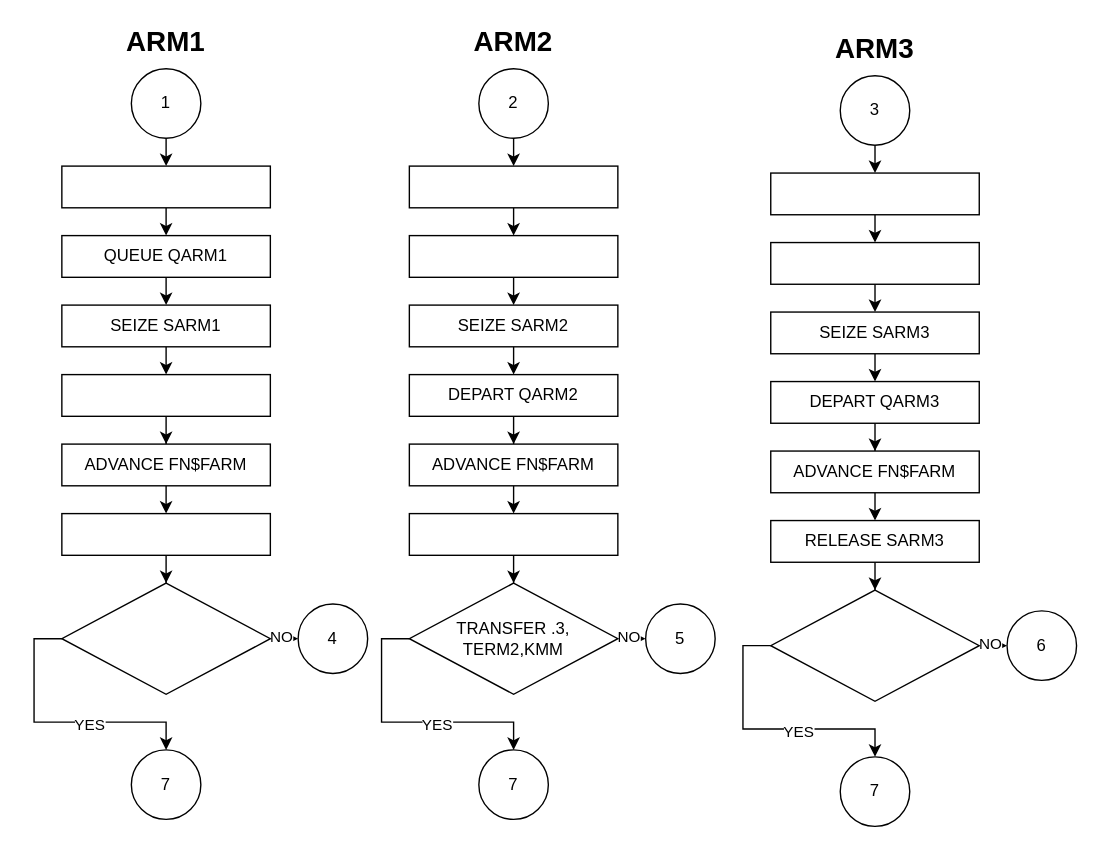
Image size: 1101x851. Some labels were removed from this diagram. The centre of each missing label's shape, as x and y in pixels:
"DEPART QARM1" belongs at (x=165, y=394).
"PRIORITY 10" belongs at (x=874, y=193).
"PRIORITY 15" belongs at (x=513, y=186).
"PRIORITY 20" belongs at (x=165, y=186).
"QUEUE QARM2" belongs at (x=513, y=255).
"QUEUE QARM3" belongs at (x=874, y=262).
"RELEASE SARM1" belongs at (x=165, y=533).
"RELEASE SARM2" belongs at (x=513, y=533).
"TRANSFER .3, TERM1,KMM" belongs at (x=165, y=638).
"TRANSFER .3, TERM3,KMM" belongs at (x=874, y=645).
